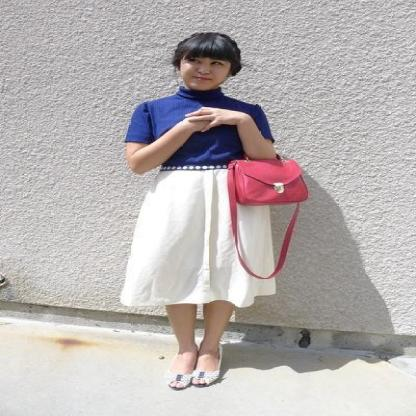bag: (227, 160, 307, 257)
shirt: (124, 86, 274, 171)
shoe: (171, 359, 228, 394)
skirt: (118, 165, 274, 307)
